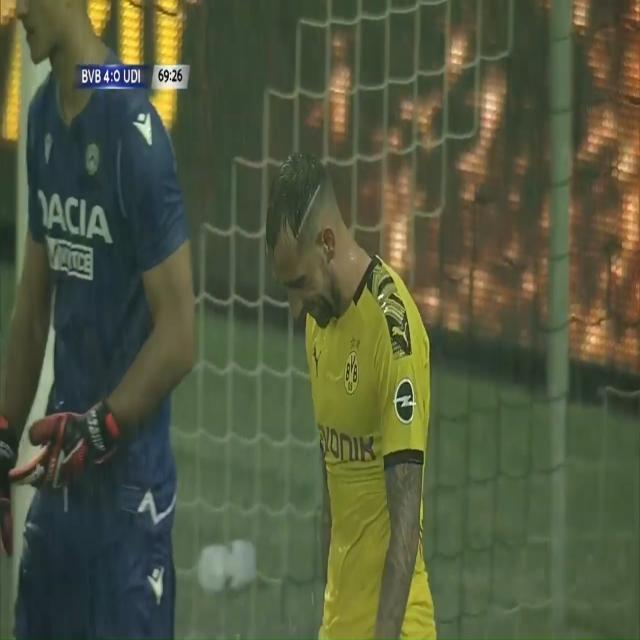goalkeeper: (0, 0, 219, 640)
player: (250, 116, 451, 640)
